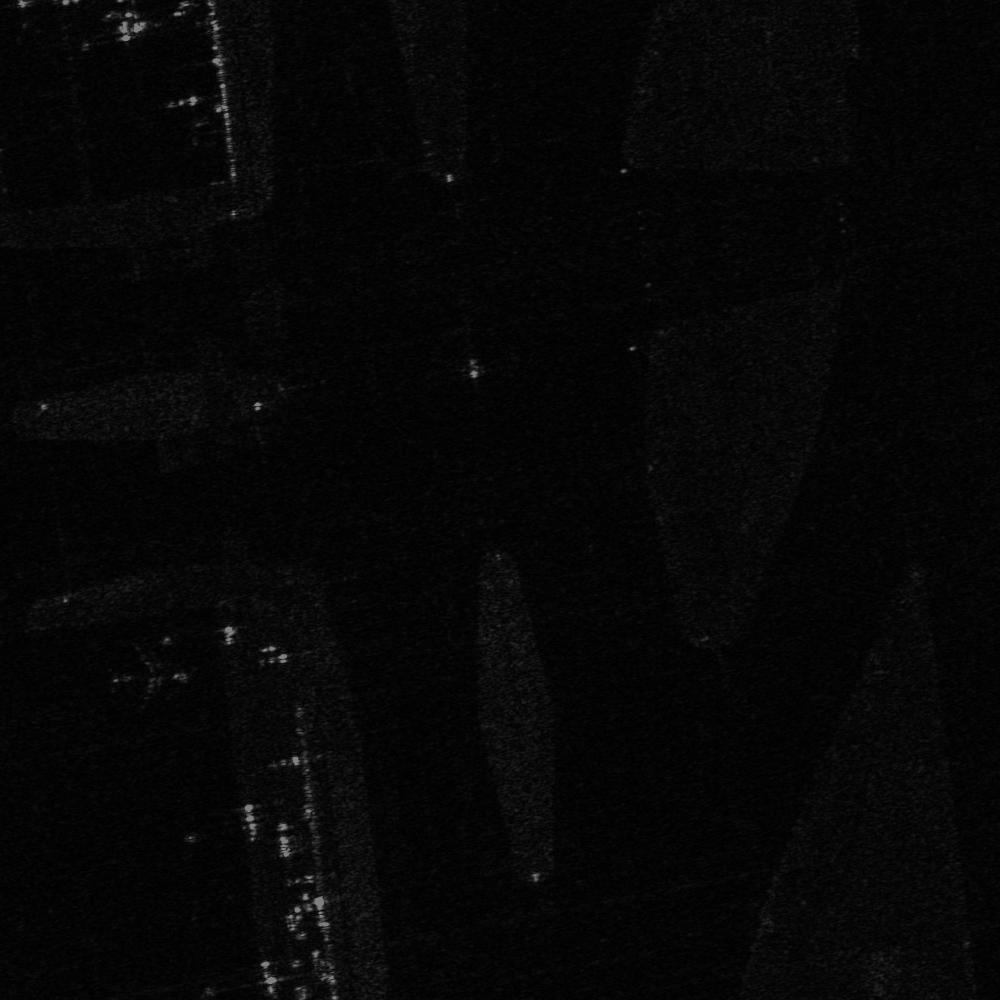Boeing737: (102, 642, 197, 718)
